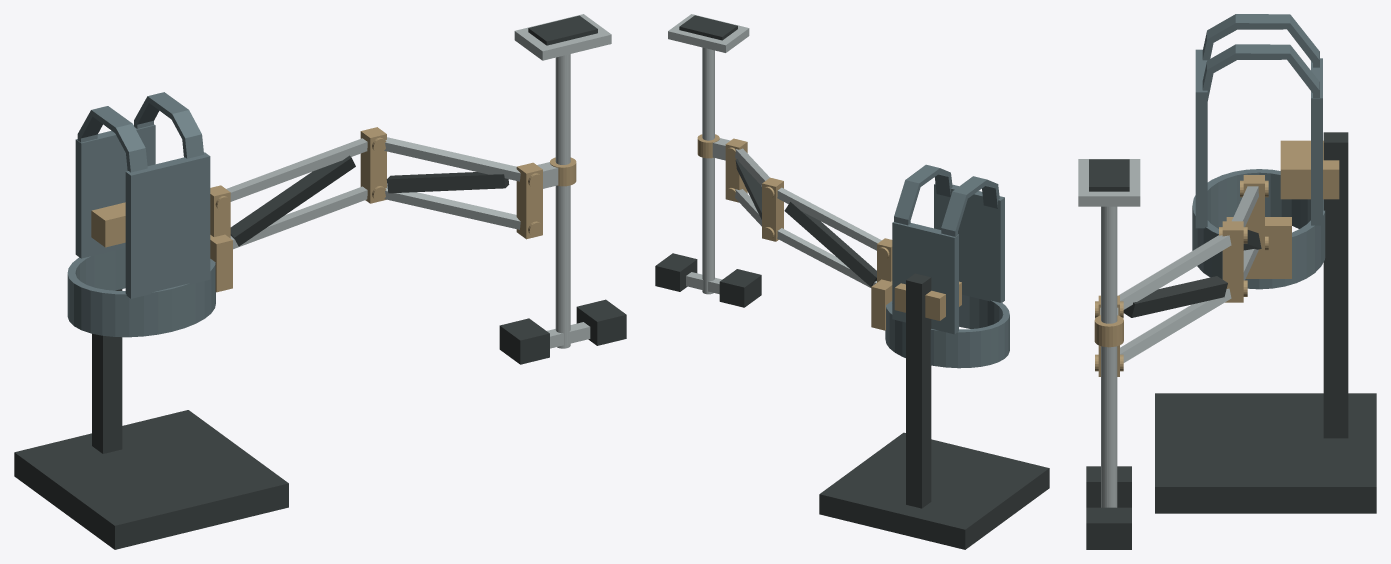
The picture shows the model from 3 angles, left to right: view 1: azimuth 30°, elevation 25°; view 2: azimuth 150°, elevation 25°; view 3: azimuth 270°, elevation 25°; orthographic projection. The views are drawn at different scales.
Parts seen in each view (by area): view 1: WholeGroundFootDisplayBase, WholeFrontChestPlate, WholeOpenWaistSupportBand, WholeBackSupportPlate, WholeVerticalSledShaft, WholeRearDisplayUpright, WholeDiagonalHousing_0, WholeDiagonalHousing_1, WholeParallelLink_0_0.18, WholeShoulderBridge_-0.36, WholeShoulderBridge_-0.14, WholeParallelLink_1_0.18 (+11 smaller); view 2: WholeGroundFootDisplayBase, WholeRearDisplayUpright, WholeOpenWaistSupportBand, WholeFrontChestPlate, WholeBackSupportPlate, WholeVerticalSledShaft, WholeDiagonalHousing_0, WholeShoulderBridge_-0.36, WholeShoulderBridge_-0.14, WholeParallelLink_0_0.18, WholeLowerCounterweight_0, WholeUpperCameraCarrier (+10 smaller); view 3: WholeGroundFootDisplayBase, WholeRearDisplayUpright, WholeOpenWaistSupportBand, WholeVerticalSledShaft, WholeRearFrameAttachment, WholeShoulderBridge_-0.14, WholeFrontChestPlate, WholeShoulderBridge_-0.36, WholeDiagonalHousing_1, WholeSideRootPlate, WholeLowerCounterweight_1, WholeParallelLink_1_0.18 (+9 smaller).
Part boxes in pixels (x1,y1,x2,y2): WholeGroundFootDisplayBase: (14,410,288,549); WholeFrontChestPlate: (125,152,210,298); WholeOpenWaistSupportBand: (67,248,215,337); WholeBackSupportPlate: (75,124,155,258); WholeVerticalSledShaft: (555,54,570,348); WholeRearDisplayUpright: (92,289,122,453); WholeDiagonalHousing_0: (230,155,355,246); WholeDiagonalHousing_1: (386,172,509,193); WholeParallelLink_0_0.18: (226,138,367,201); WholeShoulderBridge_-0.36: (77,106,147,172); WholeShoulderBridge_-0.14: (134,92,203,158); WholeParallelLink_1_0.18: (384,137,520,181); WholeGroundFootDisplayBase: (819,432,1049,549); WholeRearDisplayUpright: (906,273,931,508); WholeOpenWaistSupportBand: (885,294,1009,368); WholeFrontChestPlate: (934,183,1004,302); WholeBackSupportPlate: (892,222,958,334); WholeVerticalSledShaft: (702,47,714,294); WholeDiagonalHousing_0: (784,202,876,286); WholeShoulderBridge_-0.36: (941,176,999,236); WholeShoulderBridge_-0.14: (894,164,952,225); WholeParallelLink_0_0.18: (777,187,881,250); WholeLowerCounterweight_0: (719,269,761,307); WholeUpperCameraCarrier: (668,14,749,52); WholeGroundFootDisplayBase: (1155,393,1376,513); WholeRearDisplayUpright: (1323,132,1348,438); WholeOpenWaistSupportBand: (1192,169,1325,289); WholeVerticalSledShaft: (1101,206,1117,507); WholeRearFrameAttachment: (1280,140,1339,199); WholeShoulderBridge_-0.14: (1202,44,1319,100); WholeFrontChestPlate: (1195,49,1207,228); WholeShoulderBridge_-0.36: (1202,14,1319,67); WholeDiagonalHousing_1: (1123,276,1227,317); WholeSideRootPlate: (1226,217,1291,278); WholeLowerCounterweight_1: (1086,507,1131,549); WholeParallelLink_1_0.18: (1118,235,1231,309).
Size of the model in its own units: 1.88 by 1.61 by 0.915.
